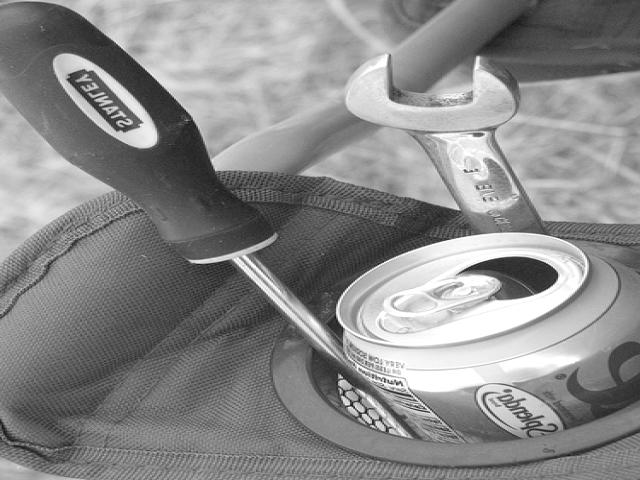Screwdriver: (2, 2, 343, 367)
Wrench: (345, 54, 545, 233)
